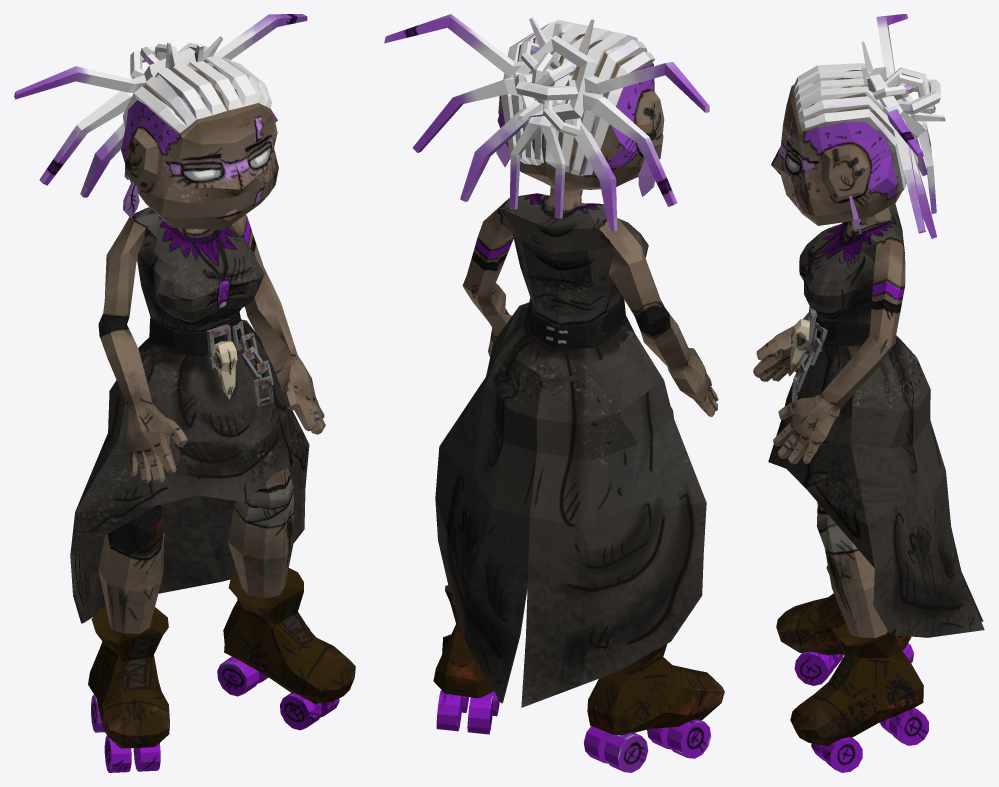
Rendered from bruja_000040.obj.
The picture shows the model from 3 angles, left to right: view 1: azimuth 30°, elevation 25°; view 2: azimuth 150°, elevation 25°; view 3: azimuth 270°, elevation 25°; orthographic projection. The views are drawn at different scales.
Parts seen in each view (by area): view 1: Bruja_Plane.001; view 2: Bruja_Plane.001; view 3: Bruja_Plane.001.
Boxes of the visible parts, x1=… form: Bruja_Plane.001: x1=14, y1=14, x2=355, y2=772; Bruja_Plane.001: x1=384, y1=14, x2=724, y2=772; Bruja_Plane.001: x1=753, y1=14, x2=984, y2=772.
Bounding box in the file's own units: 7.47 × 16.63 × 5.25.
